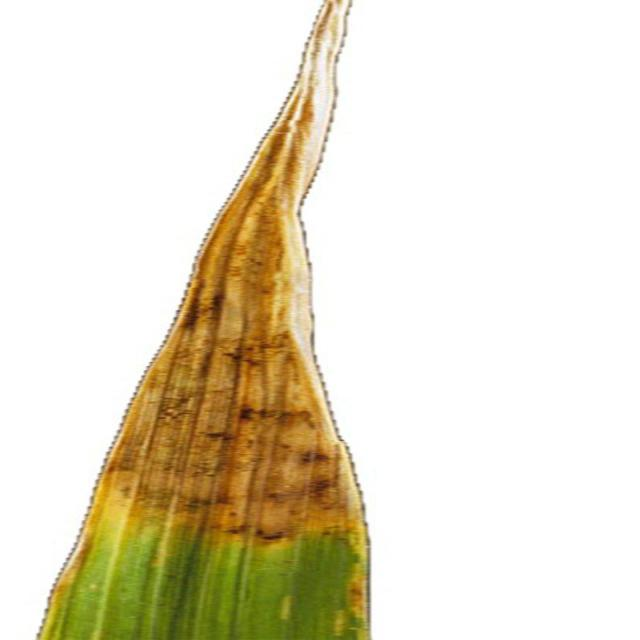Leaf scald: (0, 0, 469, 640)
